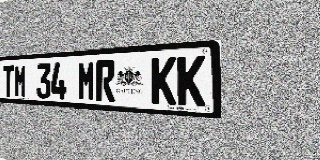3: (37, 63, 51, 99)
4: (51, 62, 66, 100)
K: (177, 55, 205, 107), (151, 57, 176, 105)
M: (78, 61, 95, 101), (14, 64, 27, 98)
R: (96, 60, 115, 102)
T: (3, 65, 14, 97)
